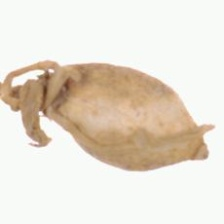L1: (6, 61, 67, 147), (183, 120, 216, 165)
L2: (4, 55, 214, 173)
